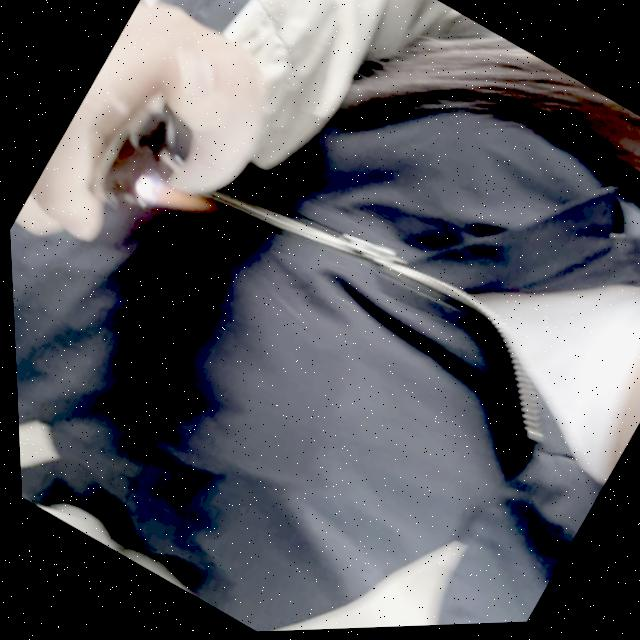Fire: (140, 171, 213, 235)
